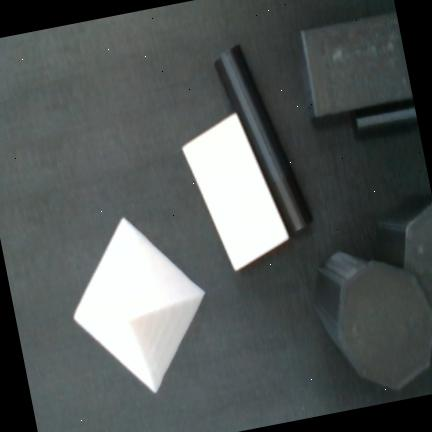Cilindro: (214, 43, 313, 236), (349, 99, 418, 140)
Paralelepipedo: (181, 111, 291, 272), (296, 12, 413, 117)
Piramide: (72, 215, 207, 395)
Prisma_hexagonal: (316, 250, 432, 391), (376, 195, 432, 308)
